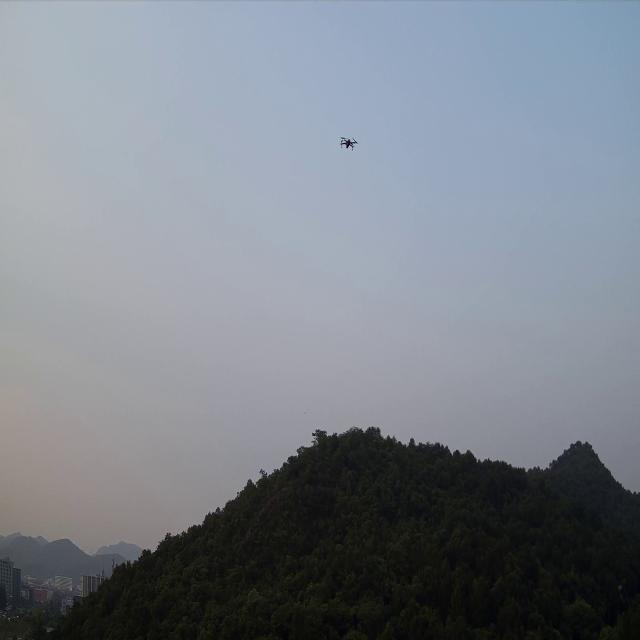UAV: (340, 136, 358, 152)
